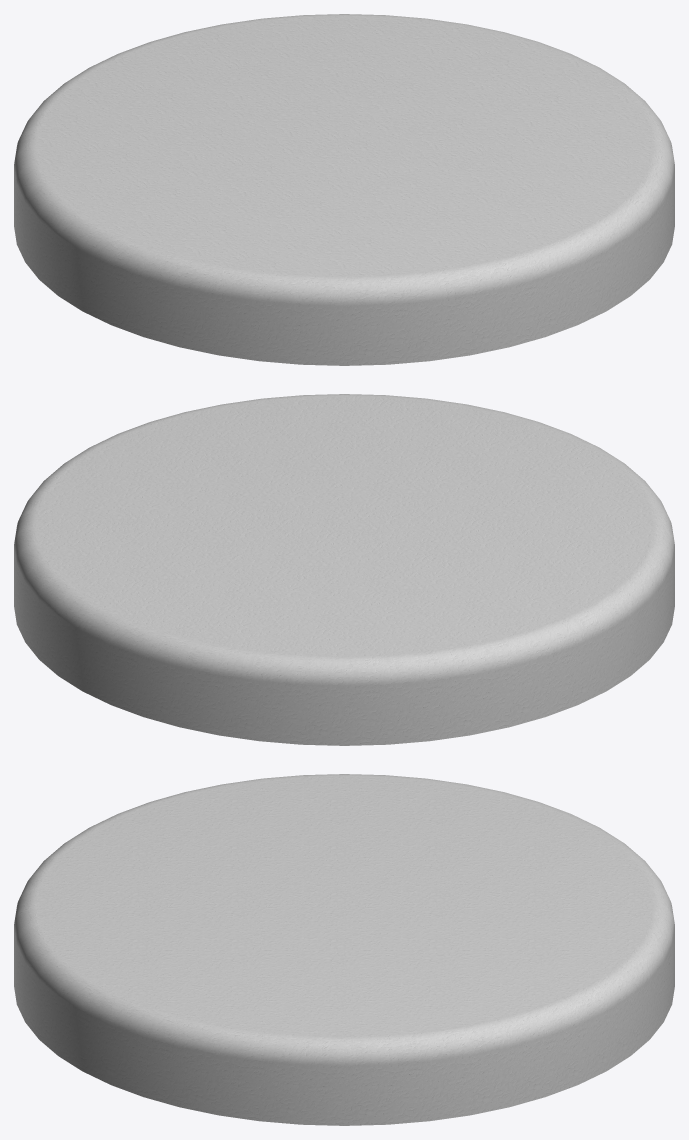
The model's file is original-4.obj.
3 renders of one model, top to bottom at view 1: azimuth 30°, elevation 25°; view 2: azimuth 150°, elevation 25°; view 3: azimuth 270°, elevation 25°, orthographic.
Visible parts, largest first — view 1: Group5/mesh7/mesh7-geometry#mesh7-geometry; view 2: Group5/mesh7/mesh7-geometry#mesh7-geometry; view 3: Group5/mesh7/mesh7-geometry#mesh7-geometry.
Part boxes in pixels (left/top/right/bottom): Group5/mesh7/mesh7-geometry#mesh7-geometry: left=14, top=14, right=674, bottom=365; Group5/mesh7/mesh7-geometry#mesh7-geometry: left=14, top=394, right=674, bottom=745; Group5/mesh7/mesh7-geometry#mesh7-geometry: left=14, top=774, right=674, bottom=1125.
Size of the model in its own units: 0.4945 by 0.0659 by 0.4945.
